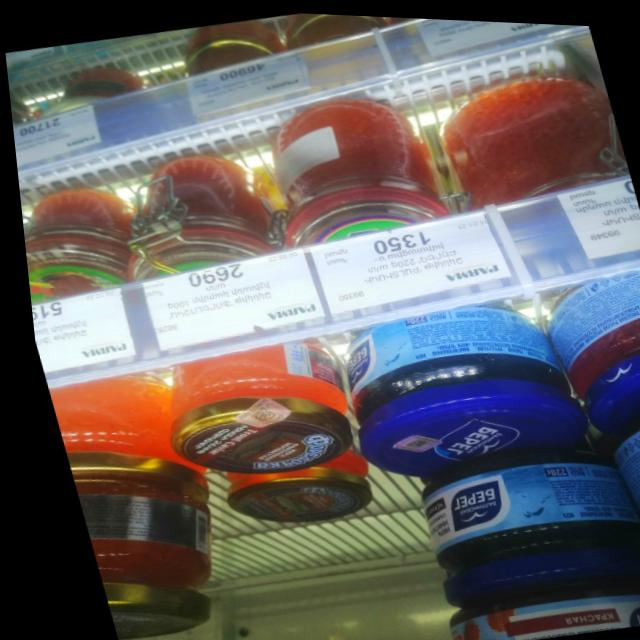datamatrix: (236, 400, 269, 424), (395, 433, 420, 447)
